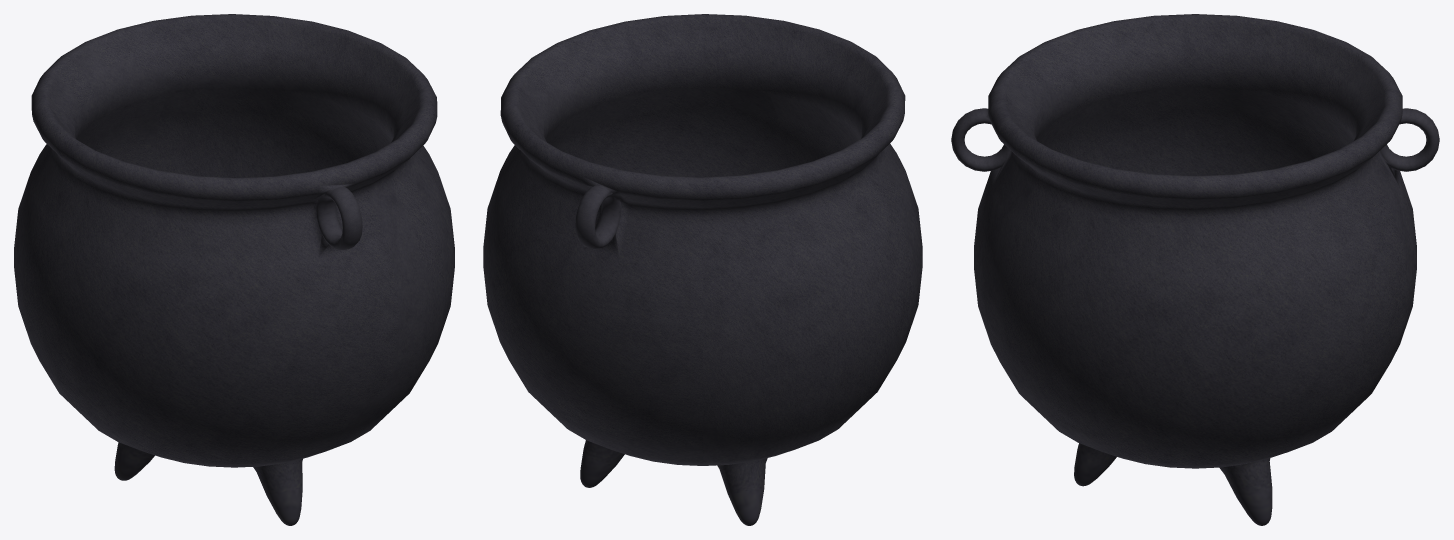
Rendered from Cauldron.fbx.
The picture shows the model from 3 angles, left to right: view 1: azimuth 30°, elevation 25°; view 2: azimuth 150°, elevation 25°; view 3: azimuth 270°, elevation 25°; orthographic projection.
Visible parts, largest first — view 1: Sphere; view 2: Sphere; view 3: Sphere.
Part boxes in pixels (x1,y1,x2,y2): Sphere: (14,14,454,525); Sphere: (483,14,922,525); Sphere: (951,14,1439,525).
Size of the model in its own units: 200 by 193 by 219.
